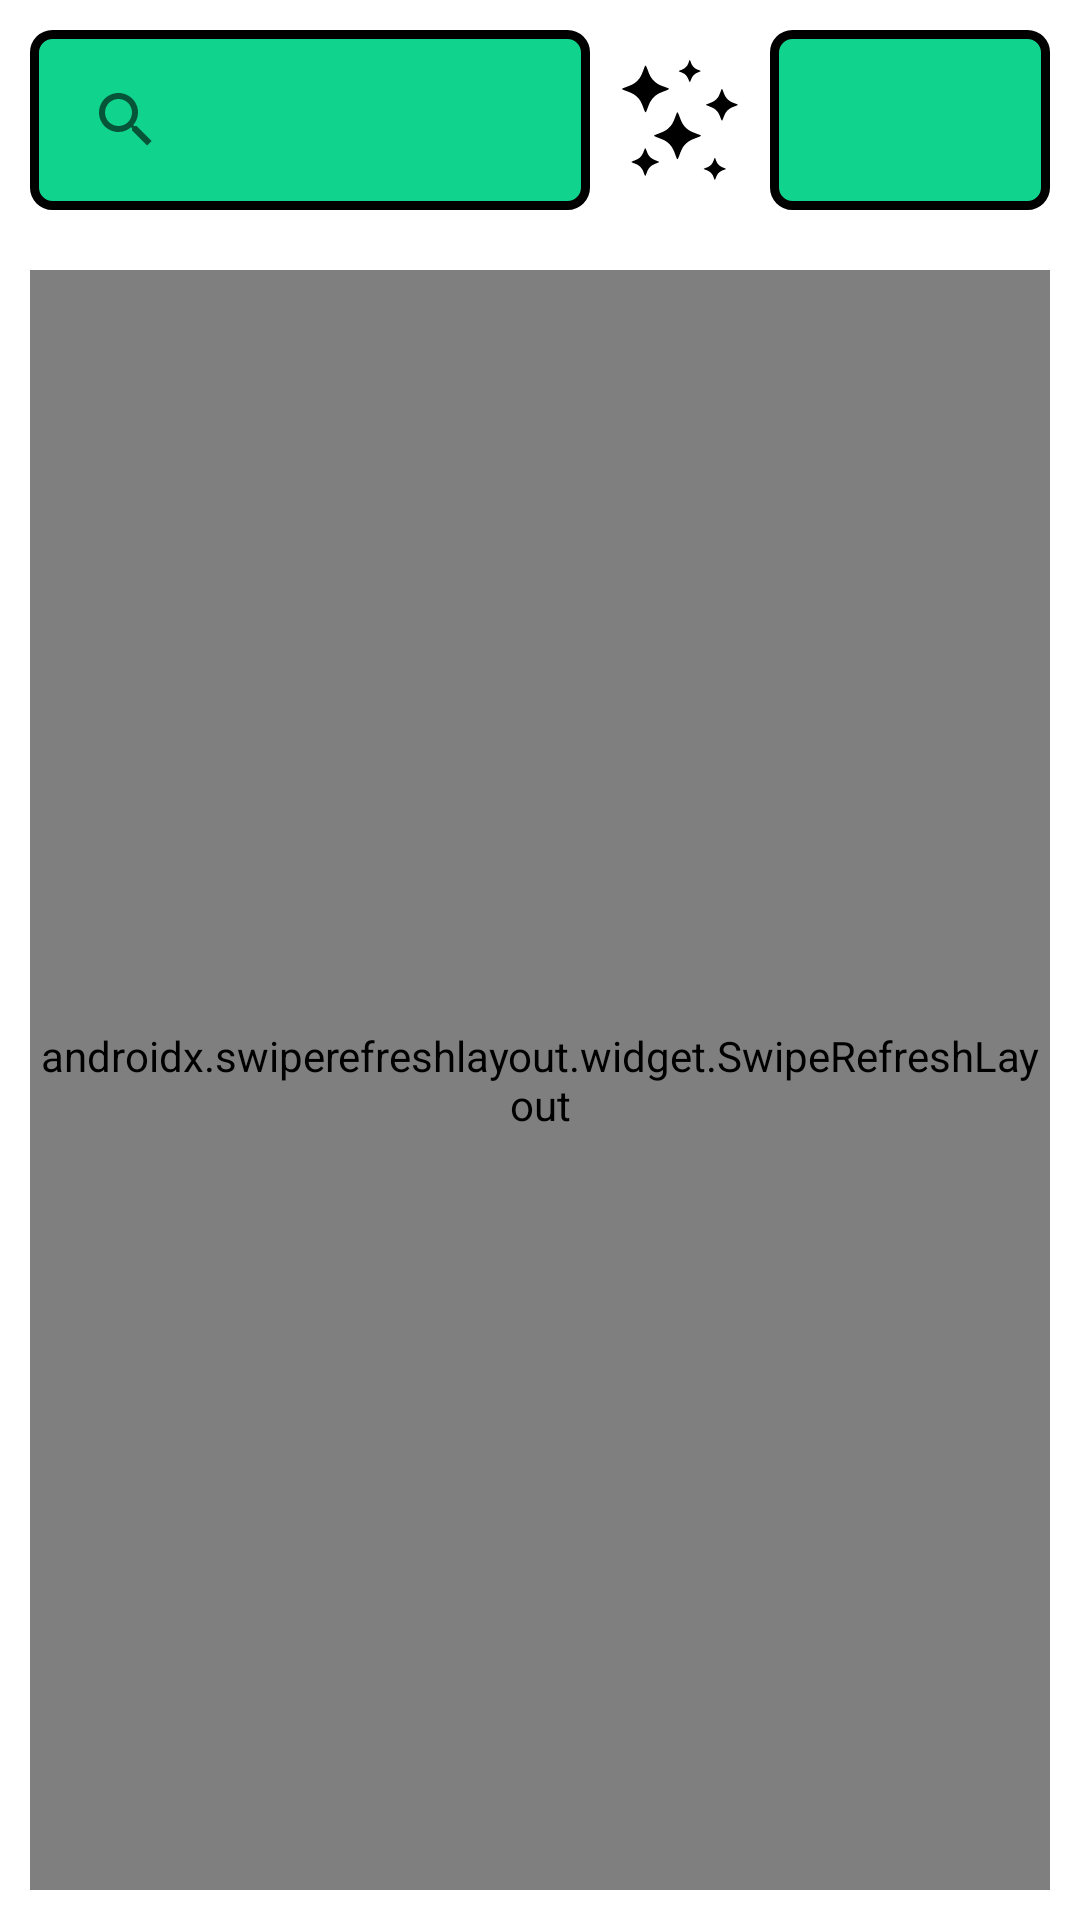

Icons on this 1080x1920 Android screen, each with its box as (x1, y1, x2, y2):
estrellas: (622, 60, 738, 180)
